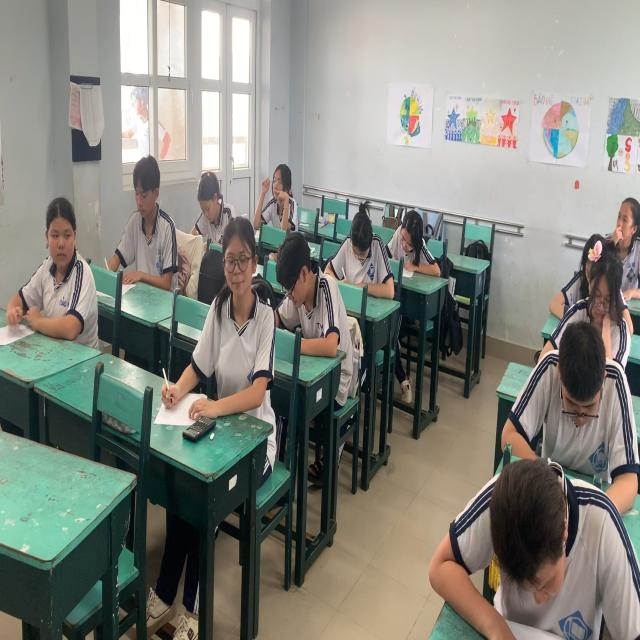cheating: (32, 196, 100, 342)
not_cheating: (473, 432, 596, 627), (208, 218, 267, 413), (544, 326, 620, 445), (276, 235, 350, 357), (124, 147, 182, 286), (332, 200, 392, 308), (380, 206, 429, 284), (578, 251, 620, 342), (192, 154, 232, 234), (608, 177, 640, 270), (261, 160, 297, 240)
